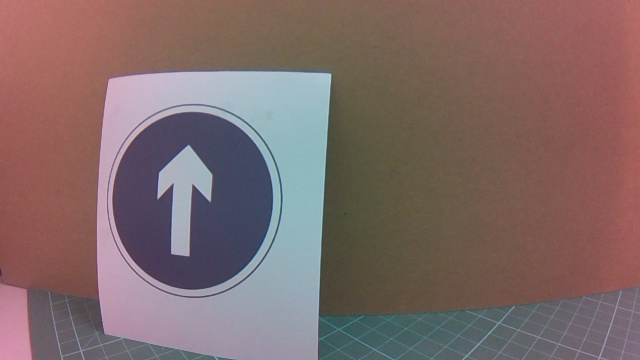forward: (118, 90, 313, 296)
